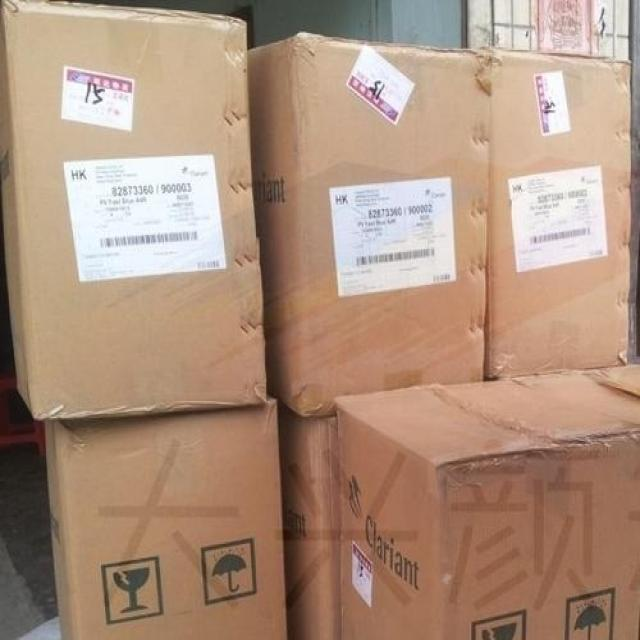box: (0, 0, 268, 421), (248, 31, 492, 418), (334, 364, 640, 640), (44, 395, 287, 639), (484, 50, 634, 377), (276, 402, 343, 640)
